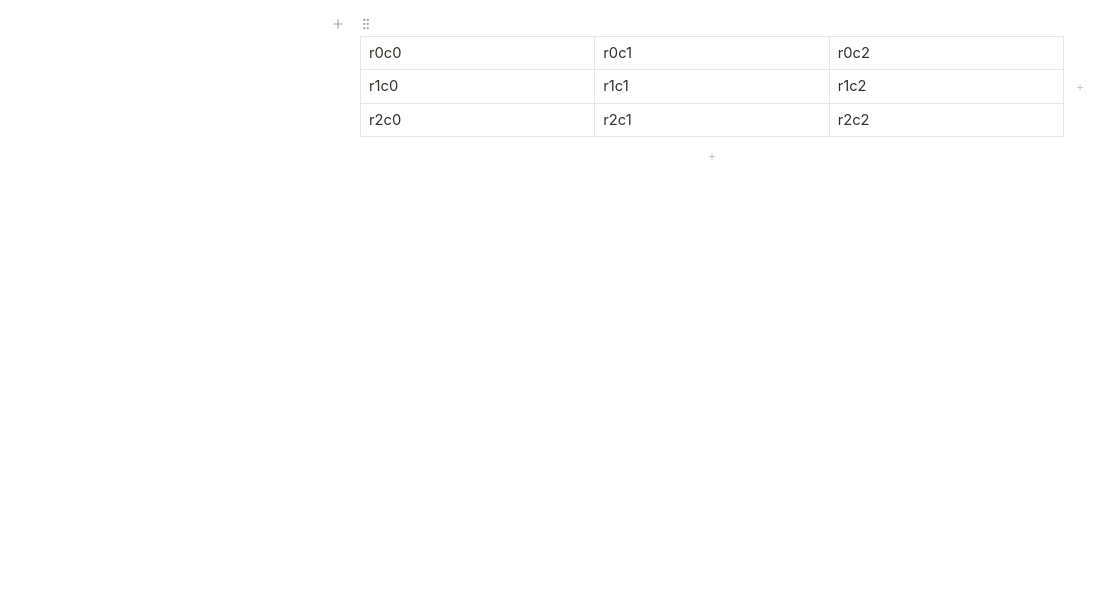
Test: range-aware cell context menu (TBL-6) › with NO range live, every cell still opens the single-cell menu
The image size is (1100, 599).
Press the mouse on the cell "r1c1" at (712, 86), box [595,70,829,103]
Right-click the cell "r1c1" at (712, 86), box [595,70,829,103]
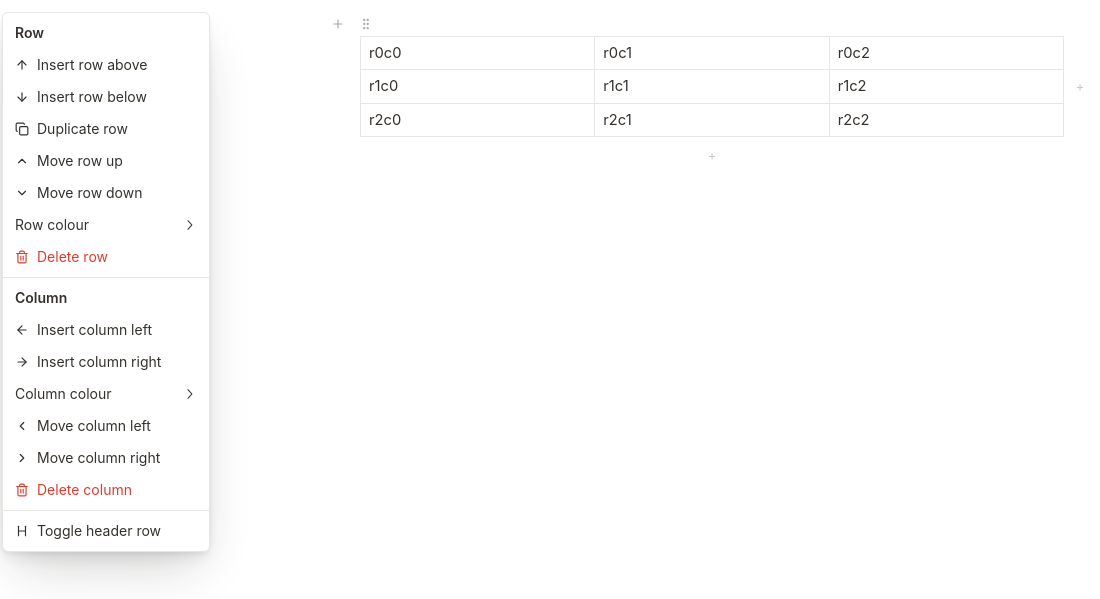
expect the menu item "Duplicate row" is shown: met, box [15,120,128,137]
